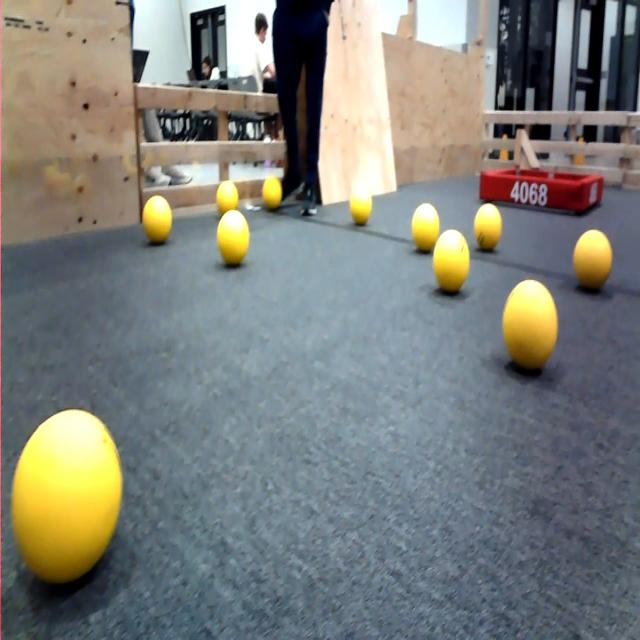Bumper: (470, 154, 613, 221)
fuel: (8, 407, 123, 582), (500, 268, 563, 376), (568, 218, 619, 298), (429, 224, 474, 298), (210, 206, 256, 274), (137, 185, 178, 252), (472, 200, 511, 261), (341, 174, 379, 234), (406, 198, 444, 257), (257, 170, 290, 226), (212, 173, 242, 220)
